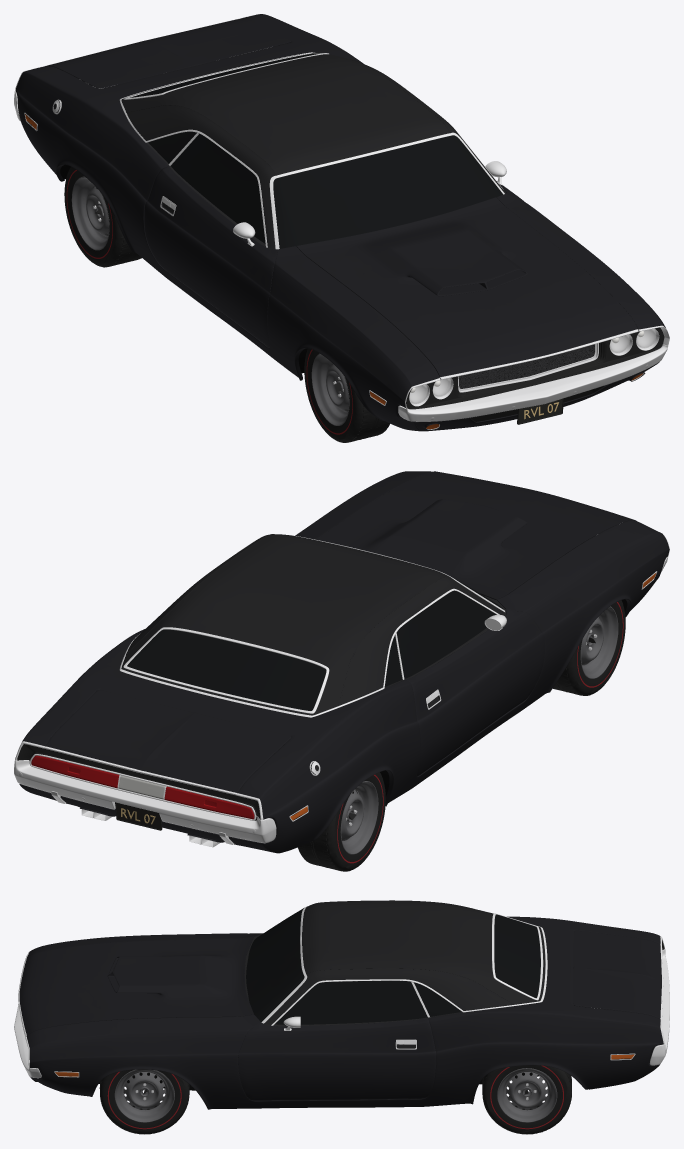
The model's file is car.glb.
3 renders of one model, top to bottom at view 1: azimuth 30°, elevation 25°; view 2: azimuth 150°, elevation 25°; view 3: azimuth 270°, elevation 25°, orthographic. The views are drawn at different scales.
Visible parts, largest first — view 1: paint, vinyl, glass, chrome, tyre, gunmetal, blackmetal, grille, void, lens; view 2: paint, vinyl, glass, chrome, tyre, gunmetal, lampRear, blackmetal, plate, reverse; view 3: paint, vinyl, glass, gunmetal, tyre, chrome, redline, plastic.
Boxes of the visible parts, <box> form: paint: <box>15,14,665,431</box>; vinyl: <box>121,54,505,249</box>; glass: <box>130,53,502,248</box>; chrome: <box>14,14,669,429</box>; tyre: <box>64,167,389,442</box>; gunmetal: <box>71,176,349,425</box>; blackmetal: <box>95,208,664,424</box>; grille: <box>459,344,594,388</box>; void: <box>60,164,605,421</box>; lens: <box>409,329,655,403</box>; paint: <box>19,471,669,853</box>; vinyl: <box>121,534,505,715</box>; glass: <box>127,579,503,710</box>; chrome: <box>14,534,669,847</box>; tyre: <box>78,600,625,871</box>; gunmetal: <box>340,606,618,854</box>; lampRear: <box>31,755,254,819</box>; blackmetal: <box>17,526,613,830</box>; plate: <box>116,803,160,829</box>; reverse: <box>119,775,165,799</box>; paint: <box>19,916,663,1109</box>; vinyl: <box>244,900,547,1025</box>; glass: <box>246,908,540,1024</box>; gunmetal: <box>114,1068,557,1122</box>; tyre: <box>99,1065,571,1134</box>; chrome: <box>14,906,669,1078</box>; redline: <box>107,1065,563,1129</box>; plastic: <box>273,1012,462,1048</box>.
Size of the model in its own units: 1.95 by 1.24 by 4.86.
